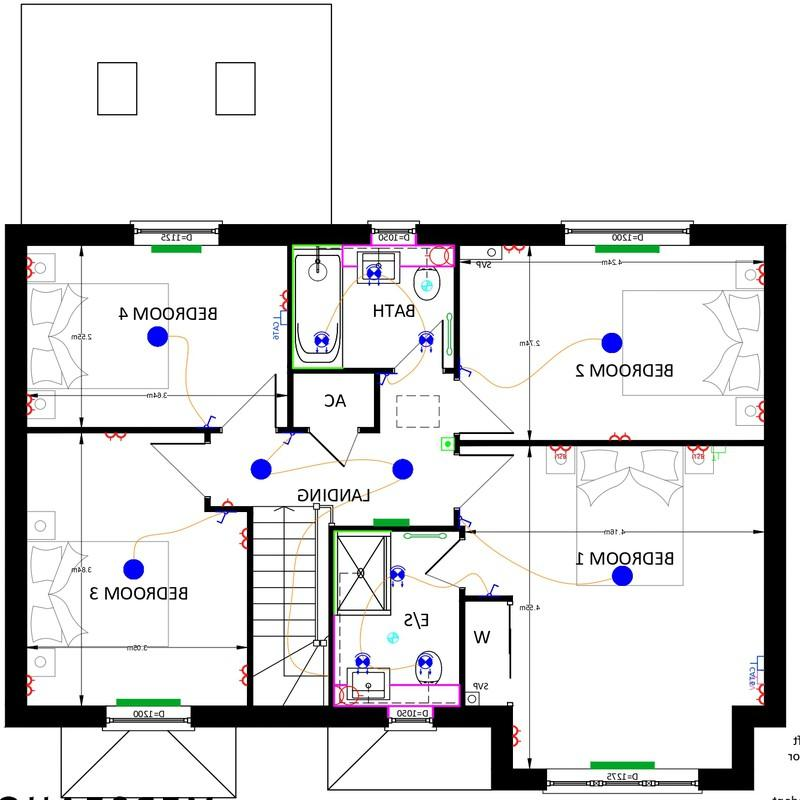Cat 6 Data Socket: (257, 305, 287, 338), (746, 646, 763, 675)
Ceiling Mounted Continuous Extract Fan With Boost Mode Activated By Light Switch: (417, 273, 442, 299), (383, 628, 405, 649)
Co-Ax TV Socket: (741, 669, 764, 684)
Double Socket: (23, 244, 44, 292), (23, 663, 45, 700), (510, 713, 529, 753), (229, 658, 250, 694), (233, 522, 251, 560), (23, 389, 42, 424), (747, 259, 765, 294), (102, 429, 130, 449), (495, 242, 530, 258), (745, 682, 768, 706), (754, 388, 765, 435), (604, 426, 637, 441), (273, 285, 288, 312)
Full Height Tiling: (289, 241, 348, 375), (325, 528, 387, 618)
Light Switch: (454, 357, 476, 388), (477, 576, 505, 599), (196, 409, 226, 426), (275, 431, 304, 447), (374, 372, 397, 392), (459, 506, 476, 532), (210, 512, 234, 530)
Low Energy Downlighter: (349, 642, 380, 681), (304, 326, 333, 365), (386, 559, 414, 595), (409, 647, 438, 681), (416, 328, 438, 365), (365, 259, 384, 299)
Low Energy Pendant Light: (593, 320, 631, 357), (112, 552, 157, 583), (138, 324, 180, 357), (386, 452, 416, 496), (603, 559, 639, 595), (241, 457, 279, 487)
Programmable Room Thermostat: (436, 428, 458, 460)
Radiator: (585, 748, 659, 771), (142, 240, 209, 265), (109, 691, 190, 711), (579, 243, 670, 258), (362, 515, 425, 528)
Shaver Socket: (329, 682, 372, 708), (418, 242, 454, 271)
Single Socket: (216, 493, 240, 506)
Telephone Socket: (709, 446, 730, 470)
USB Double Socket: (545, 442, 578, 461), (688, 444, 711, 467)
